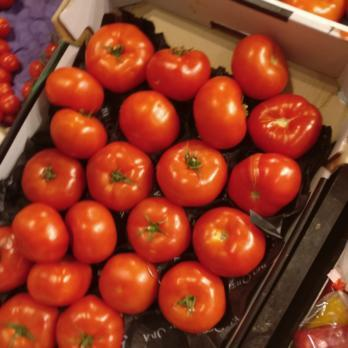Tomato: (6, 201, 221, 348), (160, 39, 291, 258), (77, 22, 163, 98)
